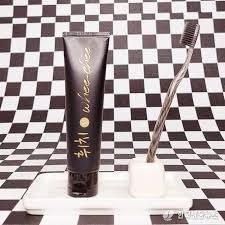toothpaste: (59, 26, 106, 202)
